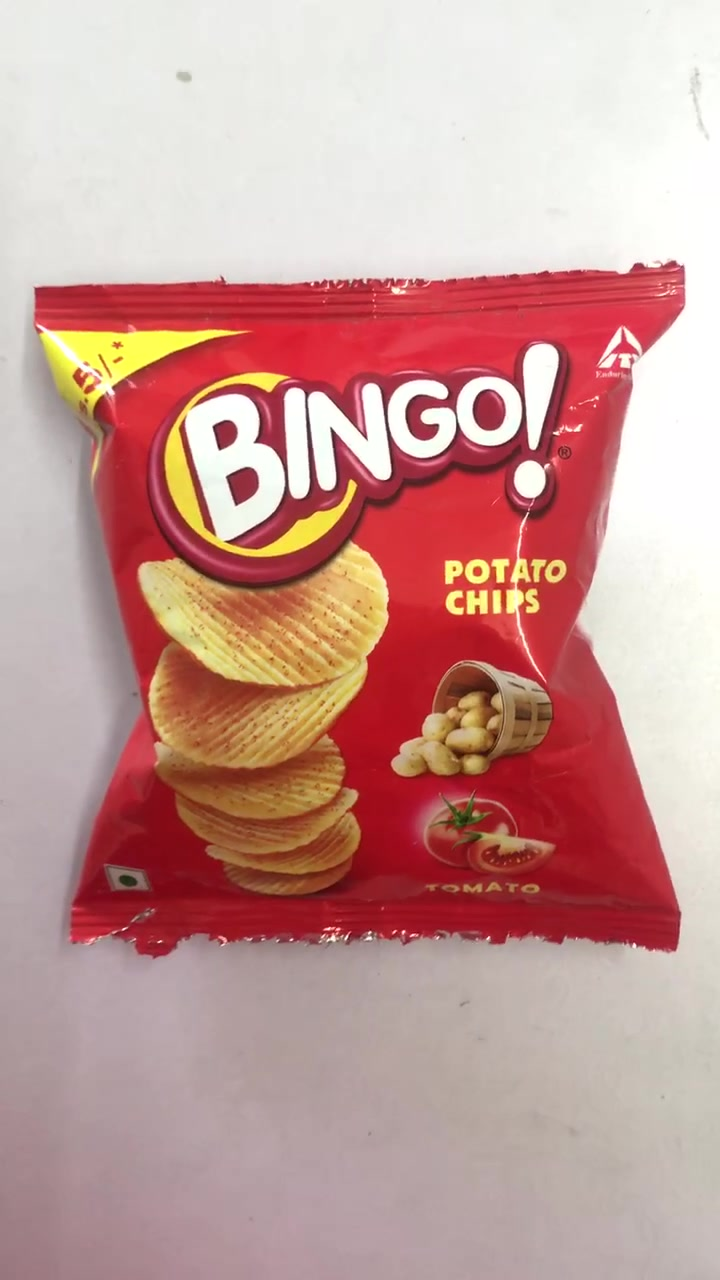Bingo: (37, 282, 685, 948)
